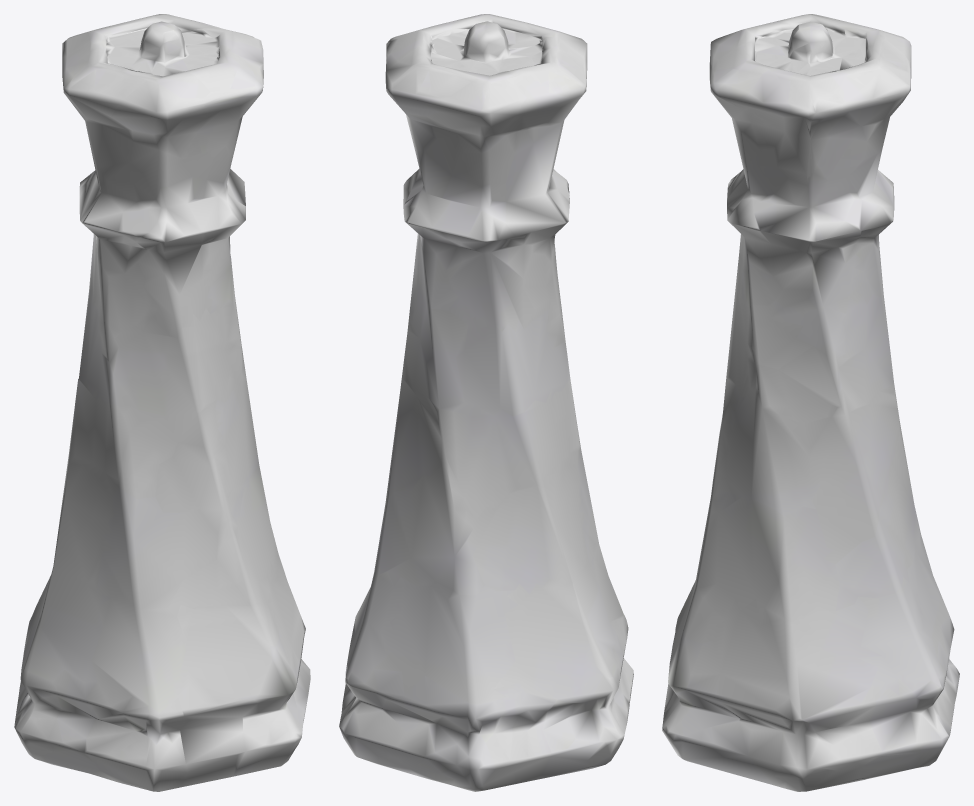
The model's file is hexa_queen_white.glb.
3 renders of one model, left to right at view 1: azimuth 30°, elevation 25°; view 2: azimuth 150°, elevation 25°; view 3: azimuth 270°, elevation 25°, orthographic.
Bounding box in the file's own units: 0.8323 × 2 × 0.7622.
Materials: 1 (1 with a texture image).
